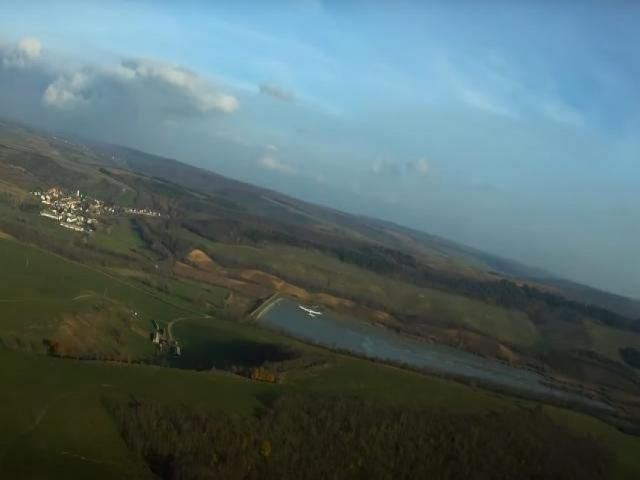iha: (300, 306, 322, 316)
